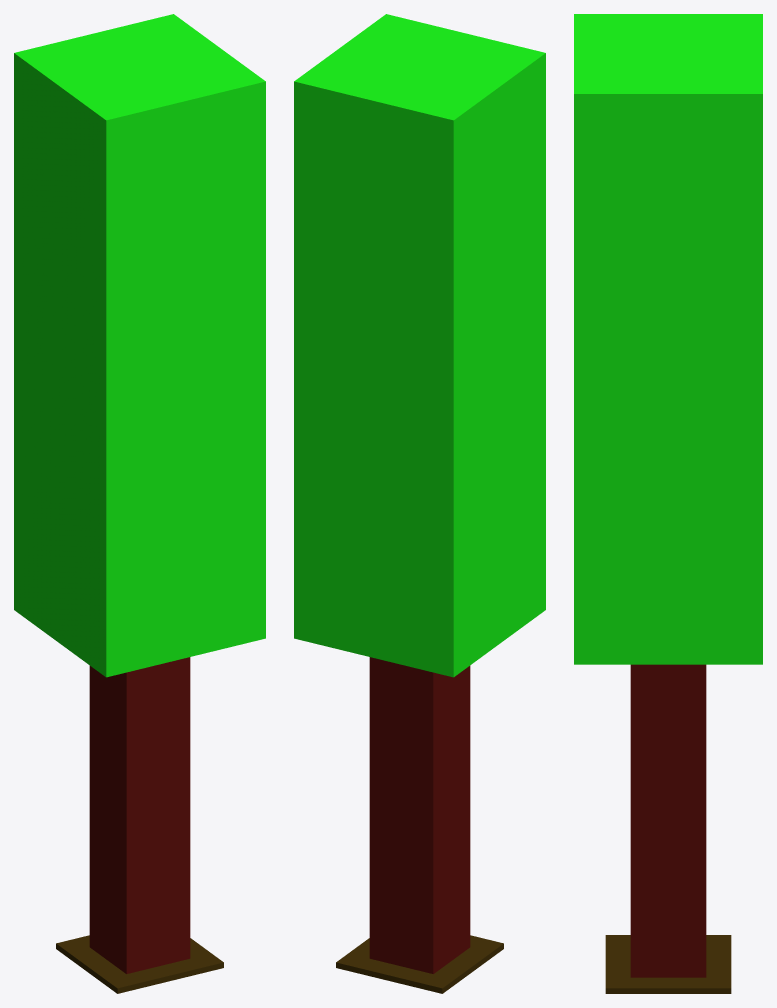
File: Tree.fbx
3 renders of one model, left to right at view 1: azimuth 30°, elevation 25°; view 2: azimuth 150°, elevation 25°; view 3: azimuth 270°, elevation 25°, orthographic. The views are drawn at different scales.
Visible parts, largest first — view 1: Tree; view 2: Tree; view 3: Tree.
Part boxes in pixels (left/top/right/bottom): Tree: left=14, top=14, right=265, bottom=993; Tree: left=294, top=14, right=545, bottom=993; Tree: left=574, top=14, right=762, bottom=993.
Bounding box in the file's own units: 30 × 160 × 30.
Materials: 1 (1 with a texture image).
